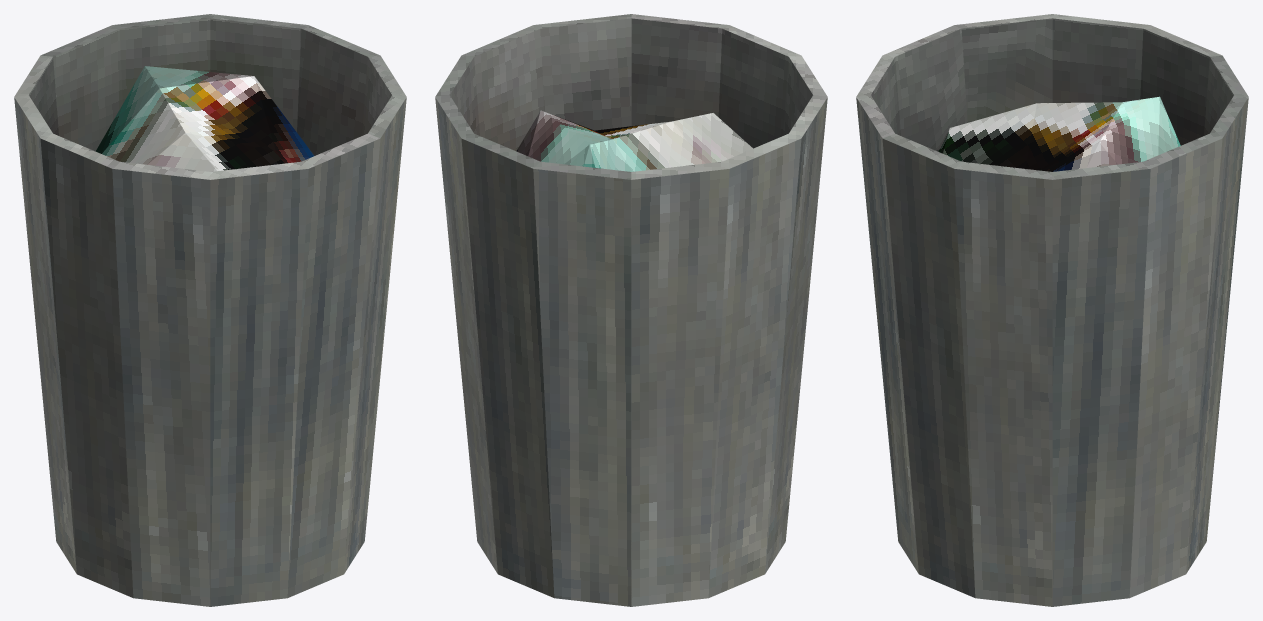
Rendered from Garbage Open.glb.
3 views of the same model, side by side, from view 1: azimuth 30°, elevation 25°; view 2: azimuth 150°, elevation 25°; view 3: azimuth 270°, elevation 25° (orthographic).
Parts seen in each view (by area): view 1: Garbage Open; view 2: Garbage Open; view 3: Garbage Open.
Boxes of the visible parts, box(x1,y1,x2,y2) form: Garbage Open: box(14, 14, 406, 606); Garbage Open: box(435, 14, 827, 606); Garbage Open: box(856, 14, 1248, 606).
Size of the model in its own units: 0.689 by 0.8646 by 0.689.
1 material, 1 textured.
